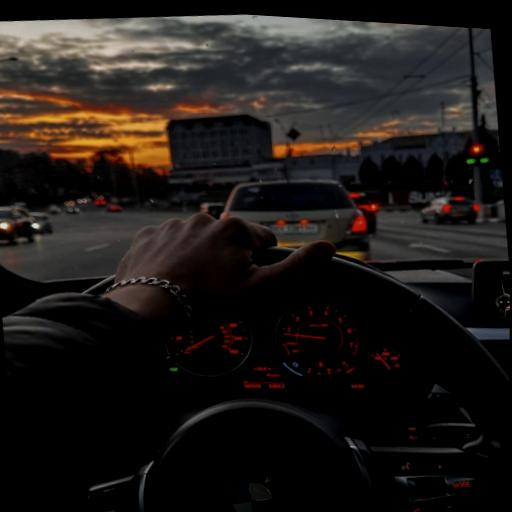Hands-on-the-Wheel: (23, 189, 348, 384)
